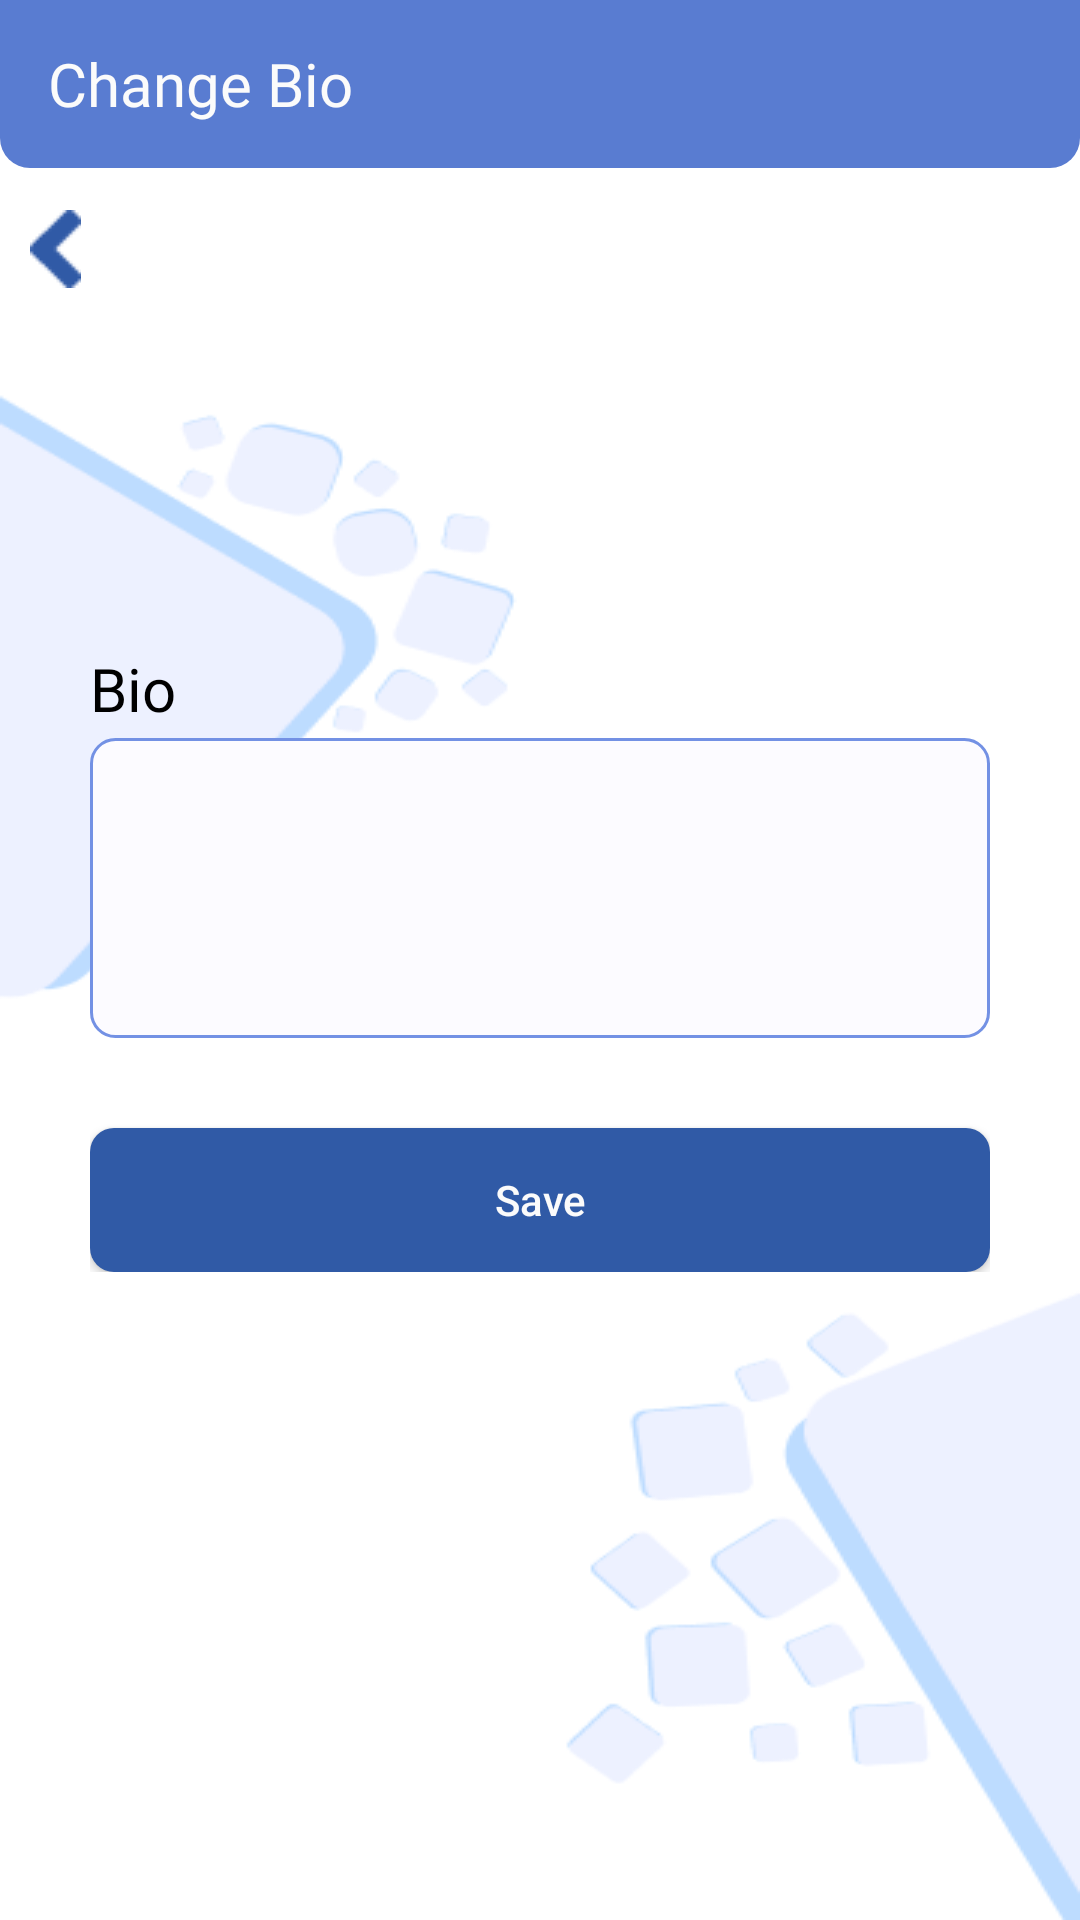

Locate icon controls on the screen. Image size 1080px x 1920px, boxes as (x1, y1, x2, y2).
back symbol: (30, 210, 81, 288)
